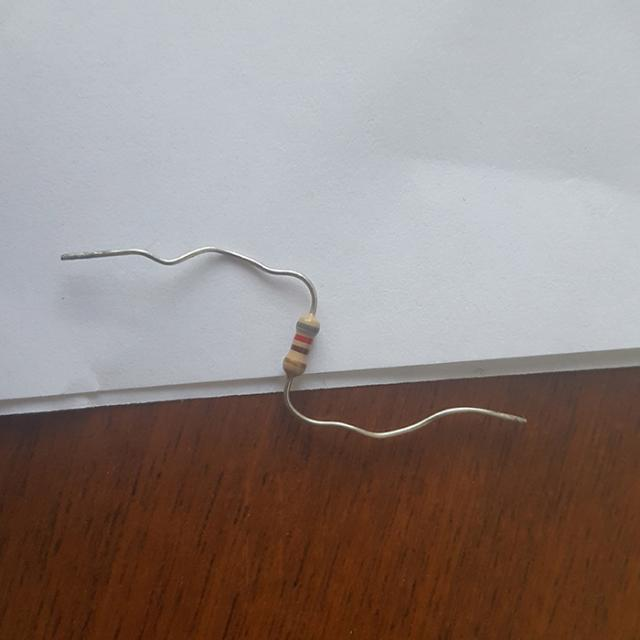brown: (292, 344, 309, 353)
gold: (285, 357, 305, 367)
grey: (297, 321, 318, 331)
red: (295, 334, 312, 344)
resistor: (279, 308, 321, 379)
